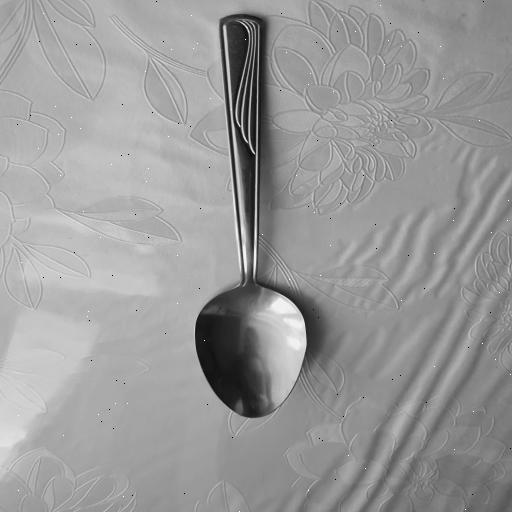spoon: (191, 14, 313, 424)
